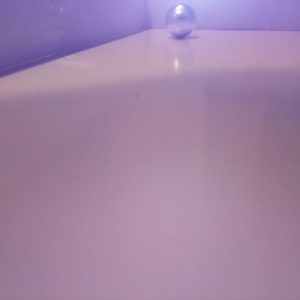alive_ball: (165, 4, 197, 38)
